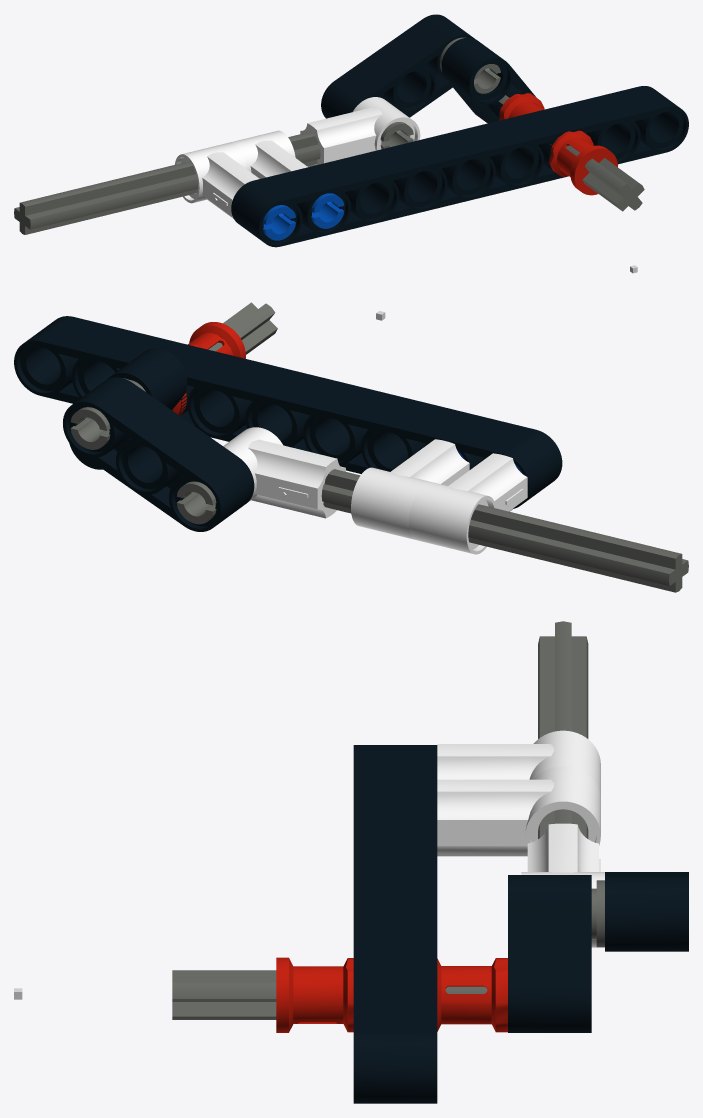
The model's file is rot2horizontal1.glb.
3 renders of one model, top to bottom at view 1: azimuth 30°, elevation 25°; view 2: azimuth 150°, elevation 25°; view 3: azimuth 270°, elevation 25°, orthographic. The views are drawn at different scales.
Visible parts, largest first — view 1: ממיר תנועה סיבובית לתנועה אופקית; view 2: ממיר תנועה סיבובית לתנועה אופקית; view 3: ממיר תנועה סיבובית לתנועה אופקית.
Boxes of the visible parts, <box> form: ממיר תנועה סיבובית לתנועה אופקית: <box>14,14,688,247</box>; ממיר תנועה סיבובית לתנועה אופקית: <box>14,302,688,592</box>; ממיר תנועה סיבובית לתנועה אופקית: <box>172,621,688,1103</box>.
Size of the model in its own units: 247 by 35.24 by 161.
